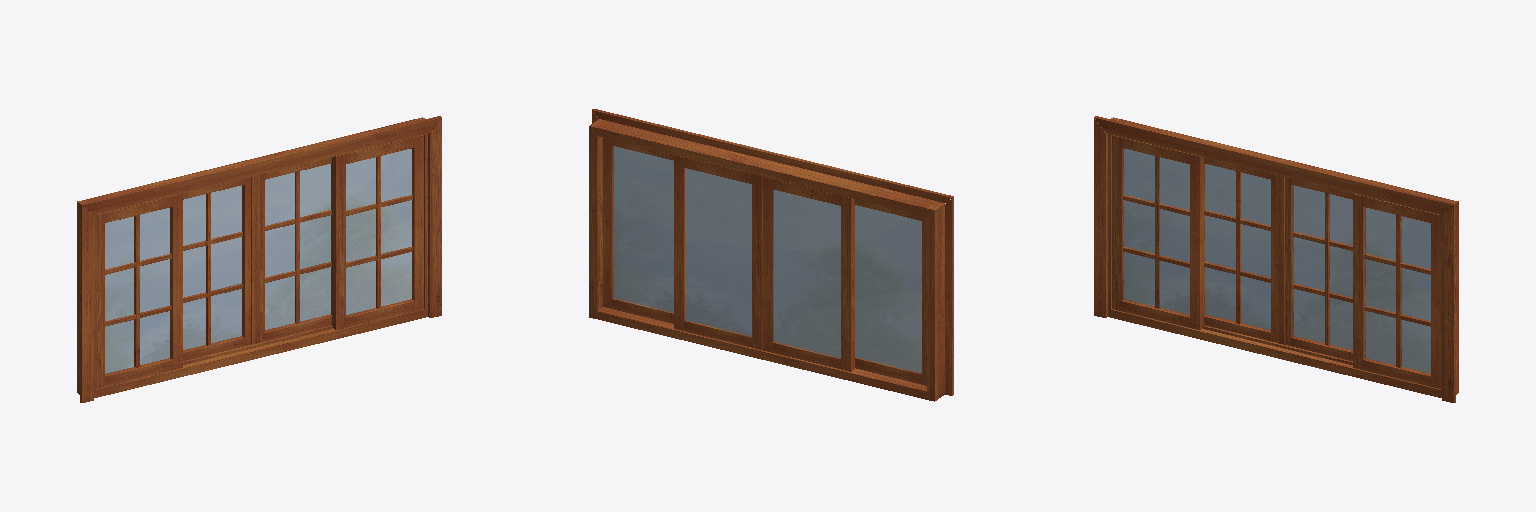
The picture shows the model from 3 angles: view 1: azimuth 30°, elevation 25°; view 2: azimuth 150°, elevation 25°; view 3: azimuth 330°, elevation 25°; orthographic projection.
Parts seen in each view (by area): view 1: glass001, glass003, glass, glass002, trim_top, box_bottom, trim_left, trim_right, window_left001, window_right, window_right001, window_left (+17 smaller); view 2: glass, glass002, glass003, glass001, box_top, box_bottom, box_left, trim_top, box_right, window_left002, window_left003, window_right003 (+10 smaller); view 3: glass, glass002, glass001, glass003, trim_top, box_bottom, trim_right, trim_left, window_right, window_left001, window_left, window_right001 (+17 smaller).
Boxes of the visible parts, <box> form: glass001: <box>346,149,411,314</box>; glass003: <box>265,164,330,329</box>; glass: <box>105,208,169,373</box>; glass002: <box>183,185,241,349</box>; trim_top: <box>81,116,441,214</box>; box_bottom: <box>94,309,426,397</box>; trim_left: <box>80,205,93,402</box>; trim_right: <box>428,118,441,317</box>; window_left001: <box>332,154,345,329</box>; window_right: <box>170,194,182,369</box>; window_right001: <box>412,135,423,310</box>; window_left: <box>95,213,104,388</box>; glass: <box>855,205,921,372</box>; glass002: <box>774,190,840,357</box>; glass003: <box>685,168,751,335</box>; glass001: <box>614,146,673,312</box>; box_top: <box>594,120,936,216</box>; box_bottom: <box>594,307,929,400</box>; box_left: <box>927,201,944,401</box>; trim_top: <box>592,109,953,202</box>; box_right: <box>589,119,603,318</box>; window_left002: <box>841,196,854,371</box>; window_left003: <box>752,174,762,349</box>; window_right003: <box>674,155,684,330</box>; glass: <box>1124,149,1189,314</box>; glass002: <box>1205,164,1270,329</box>; glass001: <box>1366,208,1430,373</box>; glass003: <box>1294,185,1352,349</box>; trim_top: <box>1094,116,1454,214</box>; box_bottom: <box>1108,309,1440,397</box>; trim_right: <box>1442,205,1455,402</box>; trim_left: <box>1094,118,1107,317</box>; window_right: <box>1190,154,1203,329</box>; window_left001: <box>1353,194,1365,369</box>; window_left: <box>1112,135,1123,310</box>; window_right001: <box>1431,213,1440,388</box>.
Size of the model in its own units: 73 by 38.36 by 4.25.
Materials: 7 (7 with a texture image).